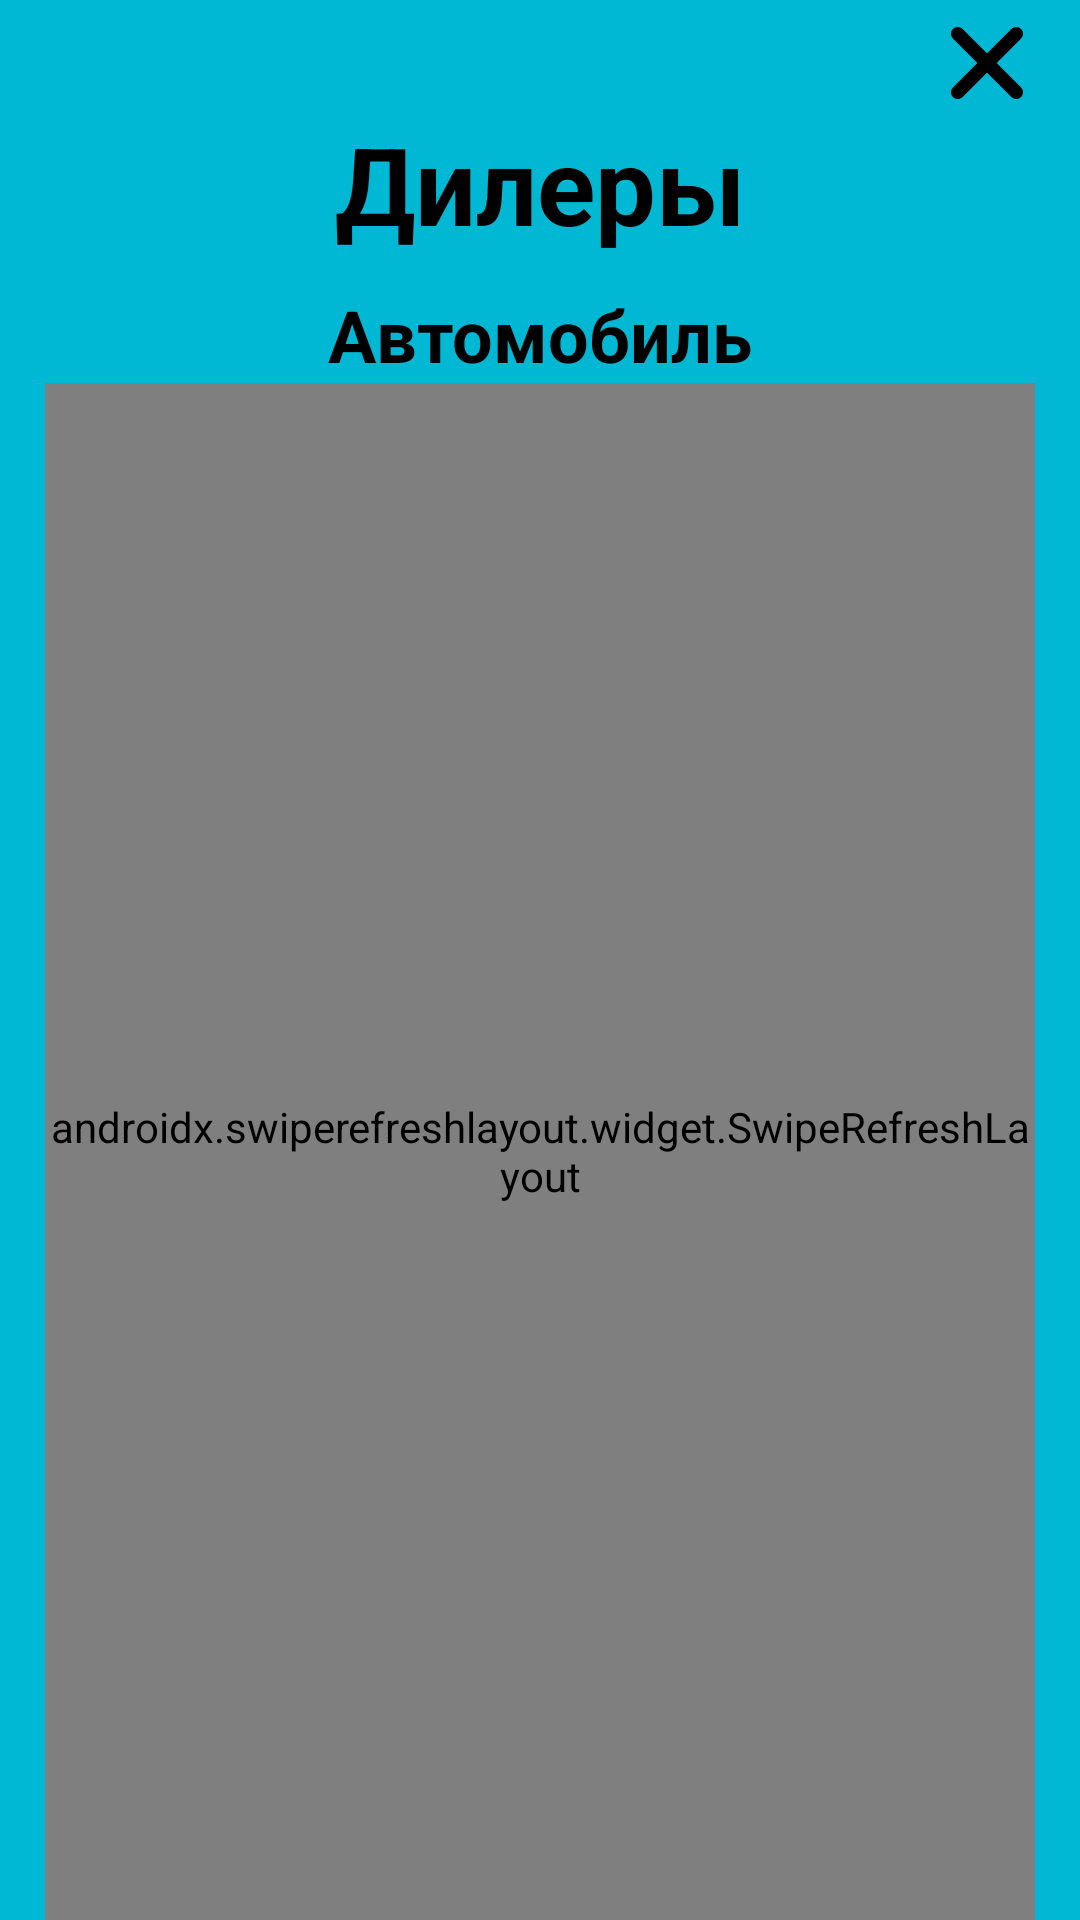

Named icons in this screenshot (1080x1920) and their centers, [x,y]:
close: [987,63]
